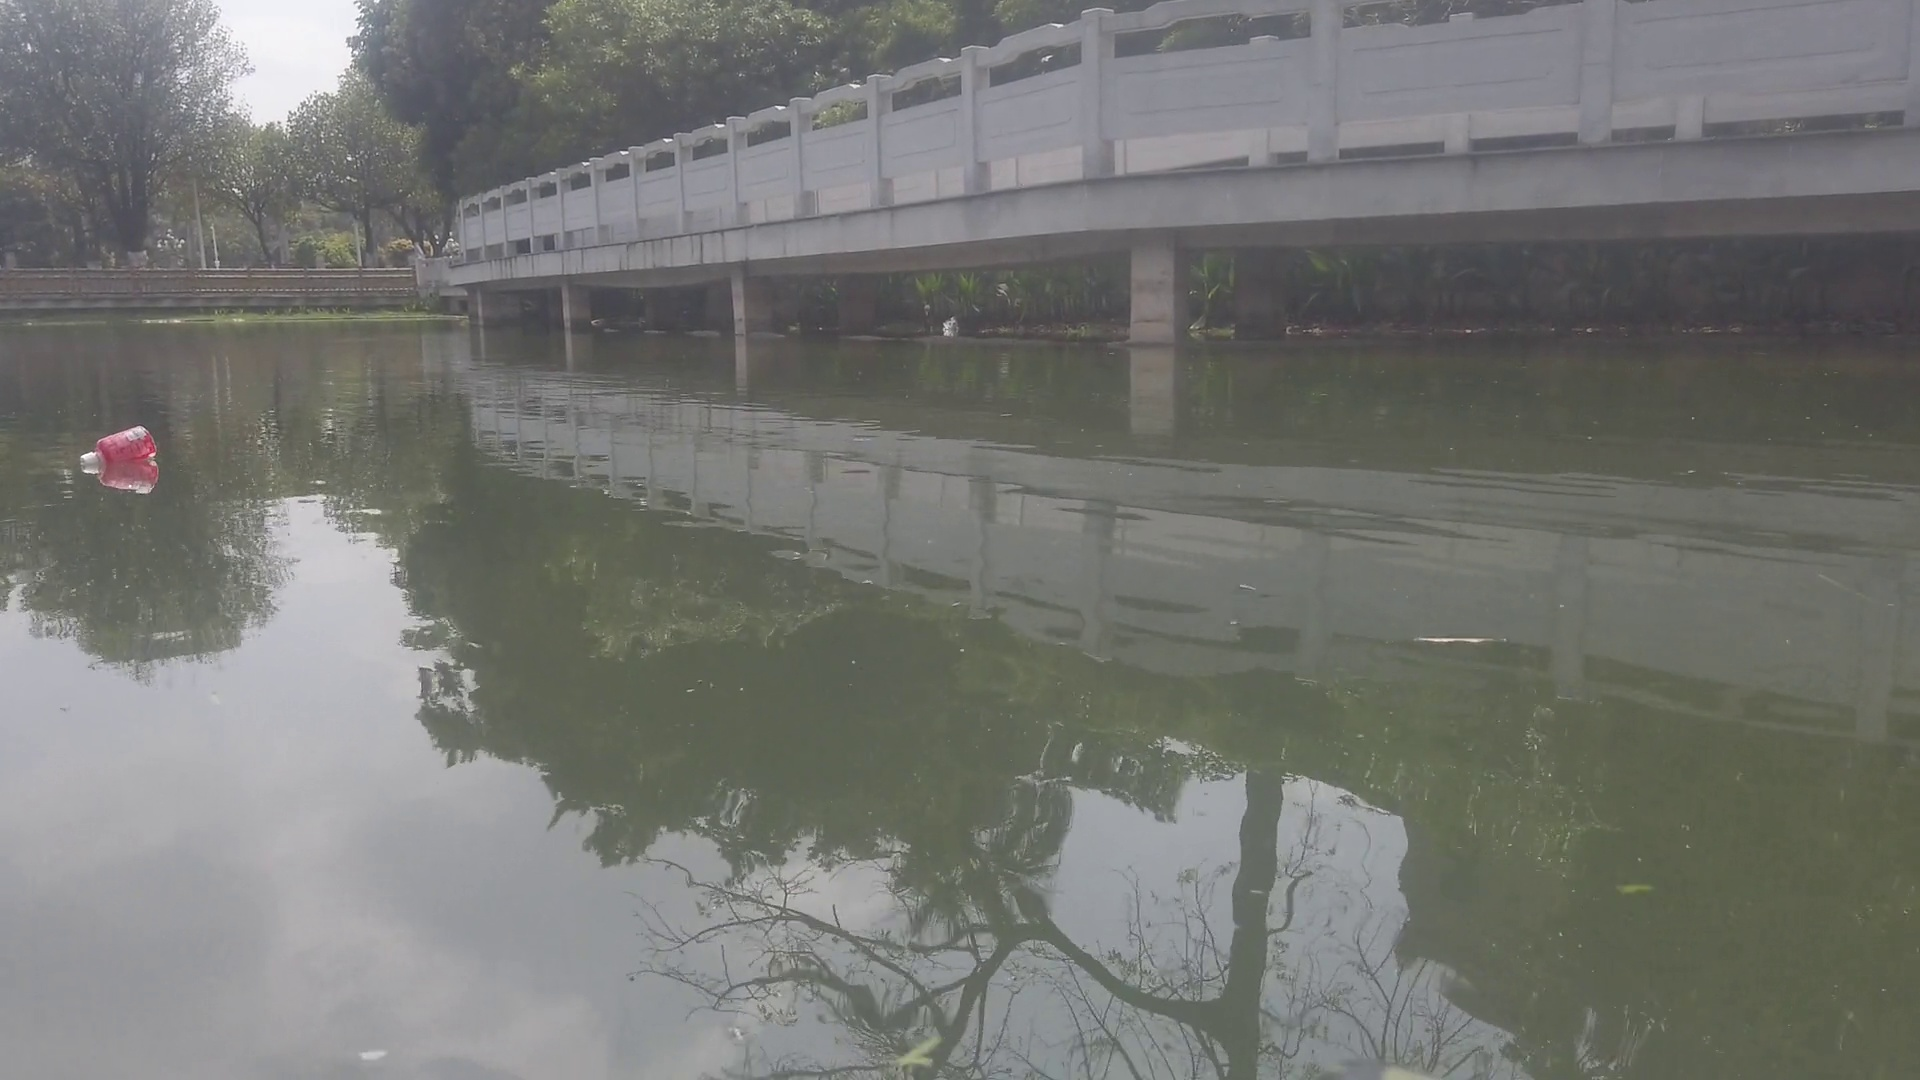bottle: (78, 425, 162, 465)
